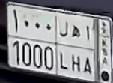0: (43, 23, 55, 71), (33, 21, 43, 70), (22, 19, 32, 67)
1: (12, 7, 21, 66)
A: (83, 25, 92, 76)
H: (70, 24, 82, 73)
L: (59, 20, 68, 70)
